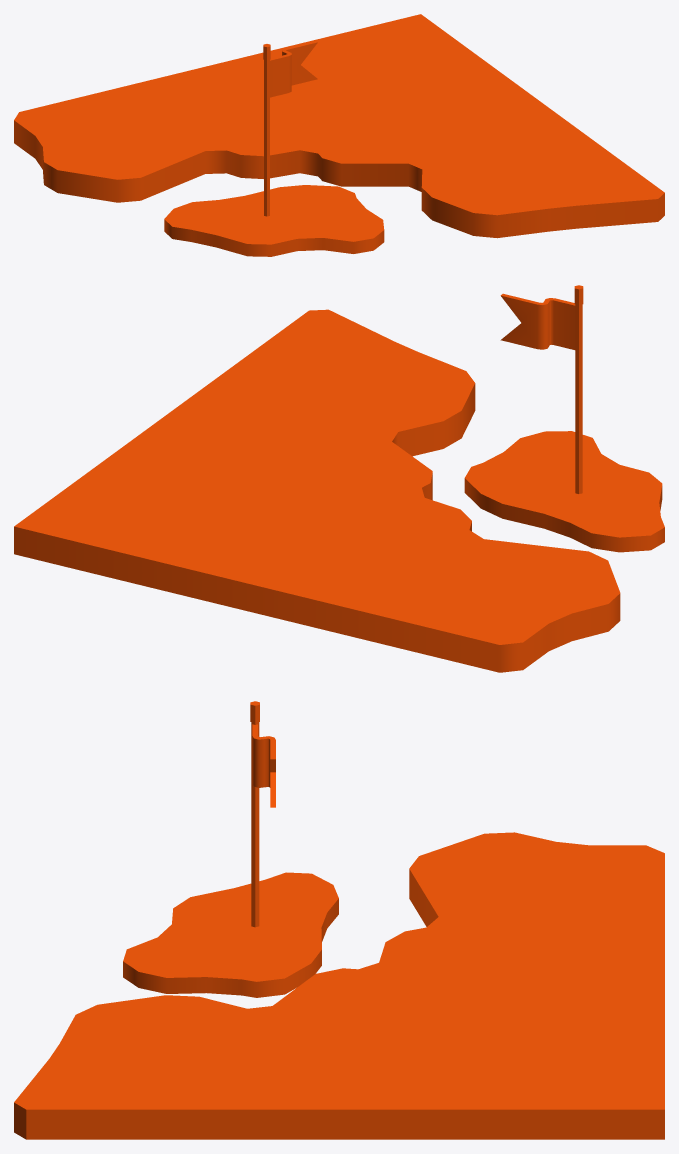
The model's file is island.fbx.
The picture shows the model from 3 angles, top to bottom: view 1: azimuth 30°, elevation 25°; view 2: azimuth 150°, elevation 25°; view 3: azimuth 270°, elevation 25°; orthographic projection. The views are drawn at different scales.
Visible parts, largest first — view 1: Плоскость; view 2: Плоскость; view 3: Плоскость.
Boxes of the visible parts, <box> form: Плоскость: <box>14,14,664,256</box>; Плоскость: <box>14,285,664,672</box>; Плоскость: <box>14,701,664,1139</box>.
Bounding box in the file's own units: 173 × 69.06 × 171.
